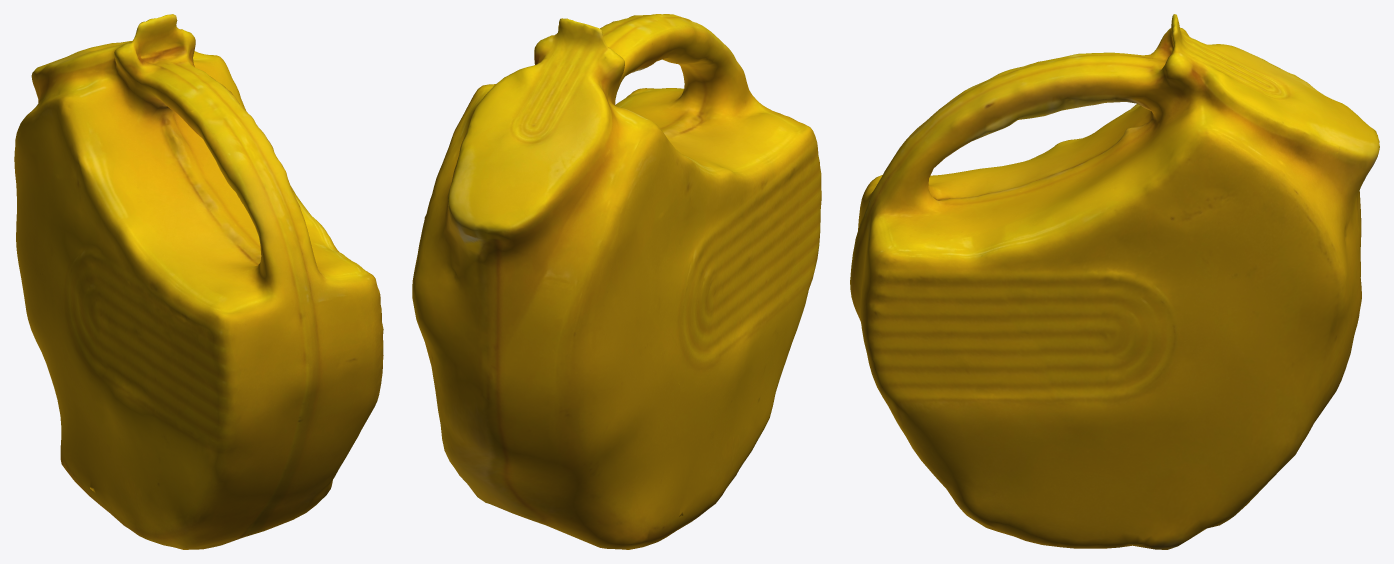
The model's file is burrite_pitcher.glb.
3 renders of one model, left to right at view 1: azimuth 30°, elevation 25°; view 2: azimuth 150°, elevation 25°; view 3: azimuth 270°, elevation 25°, orthographic. The views are drawn at different scales.
Parts seen in each view (by area): view 1: 3DModel; view 2: 3DModel; view 3: 3DModel.
Boxes of the visible parts, x1,y1,x2,y2 form: 3DModel: (14, 14, 383, 549); 3DModel: (412, 14, 821, 549); 3DModel: (850, 14, 1379, 549).
Bounding box in the file's own units: 0.0883 × 0.2142 × 0.2019.
1 material, 1 textured.
